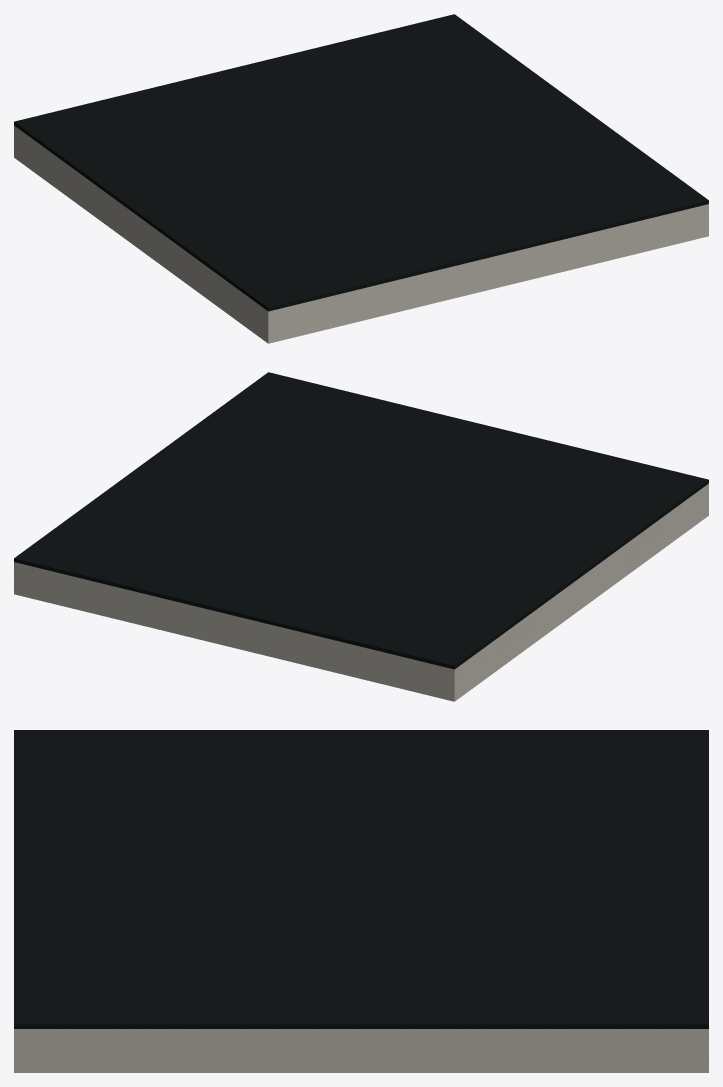
The model's file is roof_slab_2m.glb.
The picture shows the model from 3 angles, top to bottom: view 1: azimuth 30°, elevation 25°; view 2: azimuth 150°, elevation 25°; view 3: azimuth 270°, elevation 25°; orthographic projection. The views are drawn at different scales.
Parts seen in each view (by area): view 1: roof_slab_2m; view 2: roof_slab_2m; view 3: roof_slab_2m.
Boxes of the visible parts, <box> form: roof_slab_2m: <box>14,14,708,343</box>; roof_slab_2m: <box>14,372,708,701</box>; roof_slab_2m: <box>14,730,708,1072</box>.
Size of the model in its own units: 2 by 0.156 by 2.
Materials: 2 (2 with a texture image).
